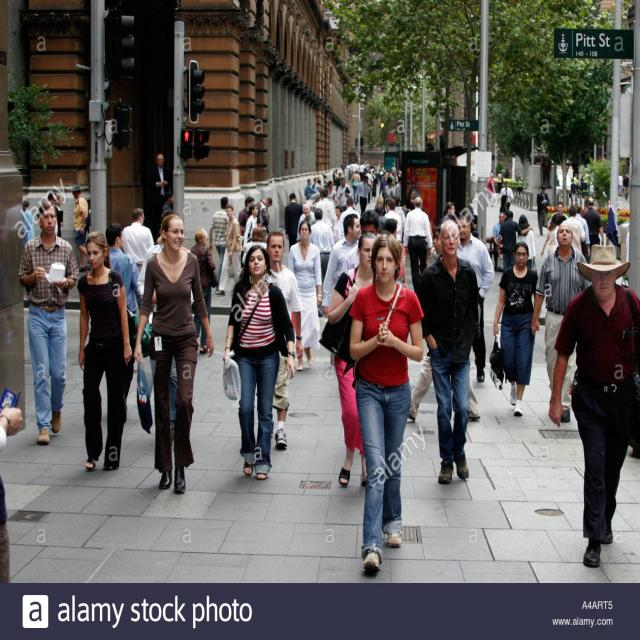body: (547, 243, 639, 570), (346, 233, 425, 575), (131, 212, 216, 496), (220, 245, 296, 483), (414, 218, 480, 486), (401, 222, 481, 424), (17, 200, 81, 447), (319, 231, 378, 489), (432, 166, 594, 250), (531, 223, 595, 428), (78, 231, 132, 472), (304, 158, 433, 239), (487, 240, 542, 418), (264, 230, 302, 451), (104, 222, 143, 414), (455, 215, 495, 384), (286, 219, 323, 372), (0, 402, 29, 580), (321, 212, 362, 319), (121, 207, 155, 317), (190, 226, 217, 354), (402, 196, 435, 294), (214, 205, 244, 296), (340, 209, 381, 272), (498, 210, 534, 276), (208, 196, 230, 295), (148, 152, 171, 244), (308, 207, 335, 284), (70, 184, 88, 272), (580, 196, 604, 258), (237, 196, 256, 269), (559, 203, 586, 254), (284, 192, 304, 252), (516, 213, 536, 269), (242, 225, 268, 264), (338, 196, 360, 242), (574, 204, 591, 260), (315, 188, 337, 230), (241, 204, 259, 254), (492, 210, 507, 269), (383, 198, 402, 243), (536, 184, 551, 236), (297, 200, 316, 241), (20, 200, 36, 246), (255, 196, 273, 235), (354, 175, 371, 215), (546, 202, 570, 230), (336, 176, 353, 212), (392, 195, 408, 232), (47, 192, 60, 237), (298, 202, 316, 230), (499, 180, 514, 212), (54, 194, 64, 238), (486, 172, 496, 208), (162, 190, 174, 212), (499, 194, 510, 216), (622, 172, 630, 201), (570, 178, 577, 208), (496, 169, 503, 197), (617, 171, 624, 197), (572, 173, 580, 192), (504, 168, 510, 178)
